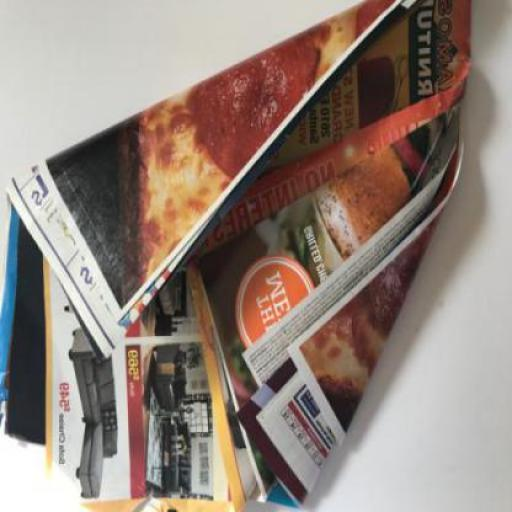paper: (0, 1, 471, 510)
